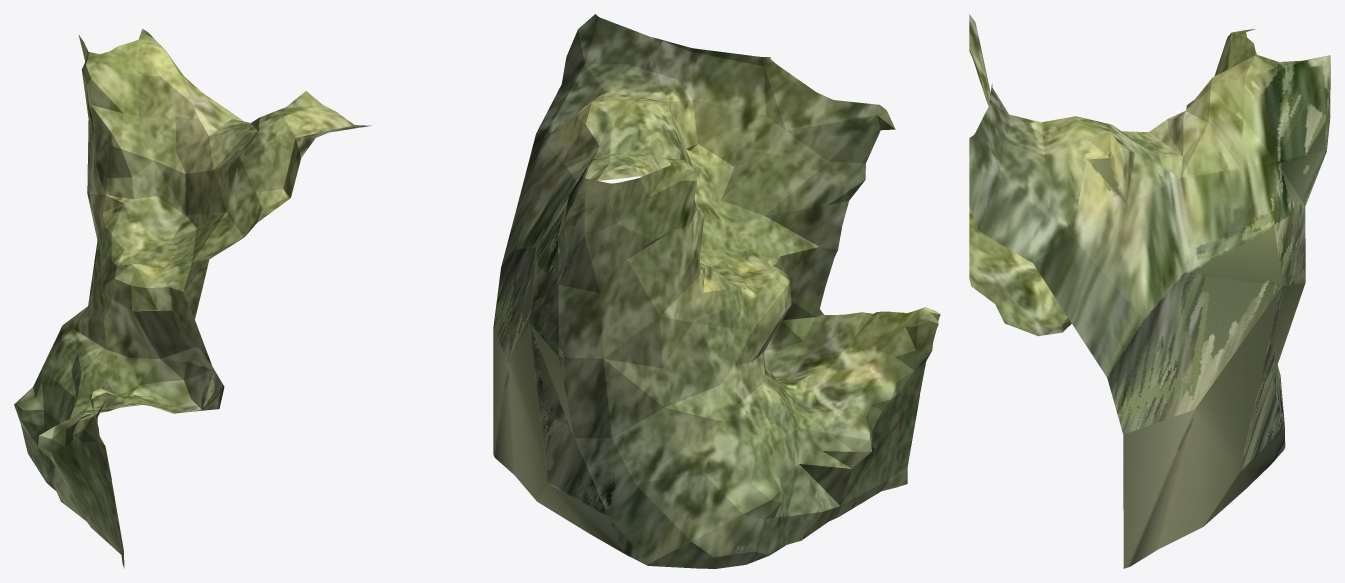
3 views of the same model, side by side, from view 1: azimuth 30°, elevation 25°; view 2: azimuth 150°, elevation 25°; view 3: azimuth 270°, elevation 25° (orthographic). The views are drawn at different scales.
Bounding box in the file's own units: 2.93 × 2.95 × 2.32.
5 materials, 5 textured.
